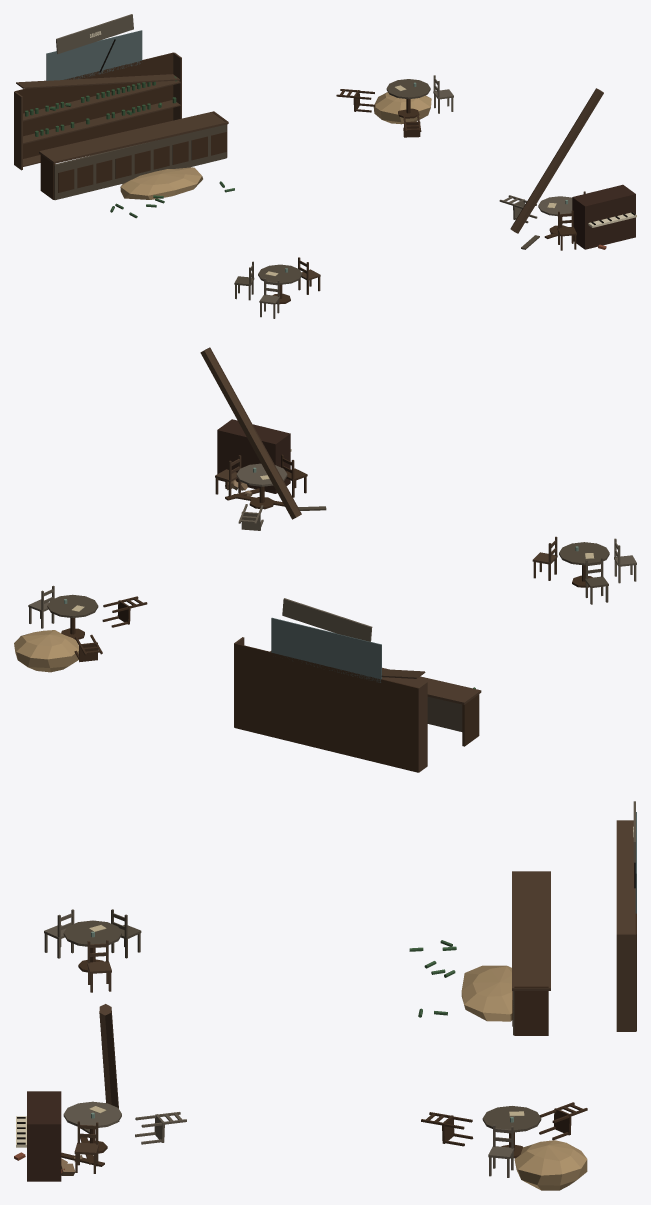
Rendered from TownRoom_saloon.glb.
3 views of the same model, one above another, from view 1: azimuth 30°, elevation 25°; view 2: azimuth 150°, elevation 25°; view 3: azimuth 270°, elevation 25° (orthographic). The views are drawn at different scales.
Visible parts, largest first — view 1: TownRoom_saloon.001; view 2: TownRoom_saloon.001; view 3: TownRoom_saloon.001.
Boxes of the visible parts, x1=… form: TownRoom_saloon.001: x1=14, y1=14, x2=636, y2=318; TownRoom_saloon.001: x1=14, y1=347, x2=636, y2=772; TownRoom_saloon.001: x1=14, y1=801, x2=636, y2=1190.
Size of the model in its own units: 12.55 by 4.44 by 12.78.
